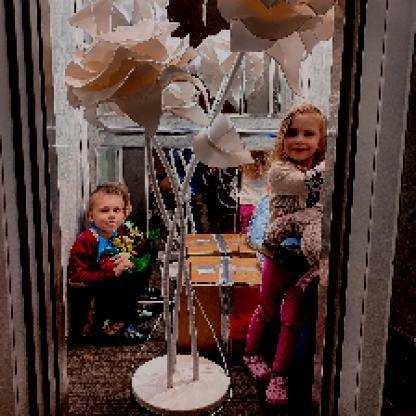child: (242, 103, 328, 408), (68, 186, 156, 342)
